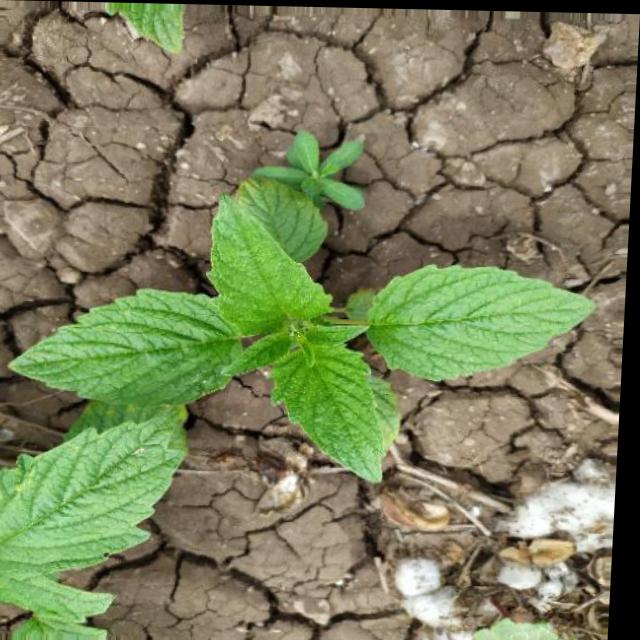crop: (28, 178, 605, 492)
